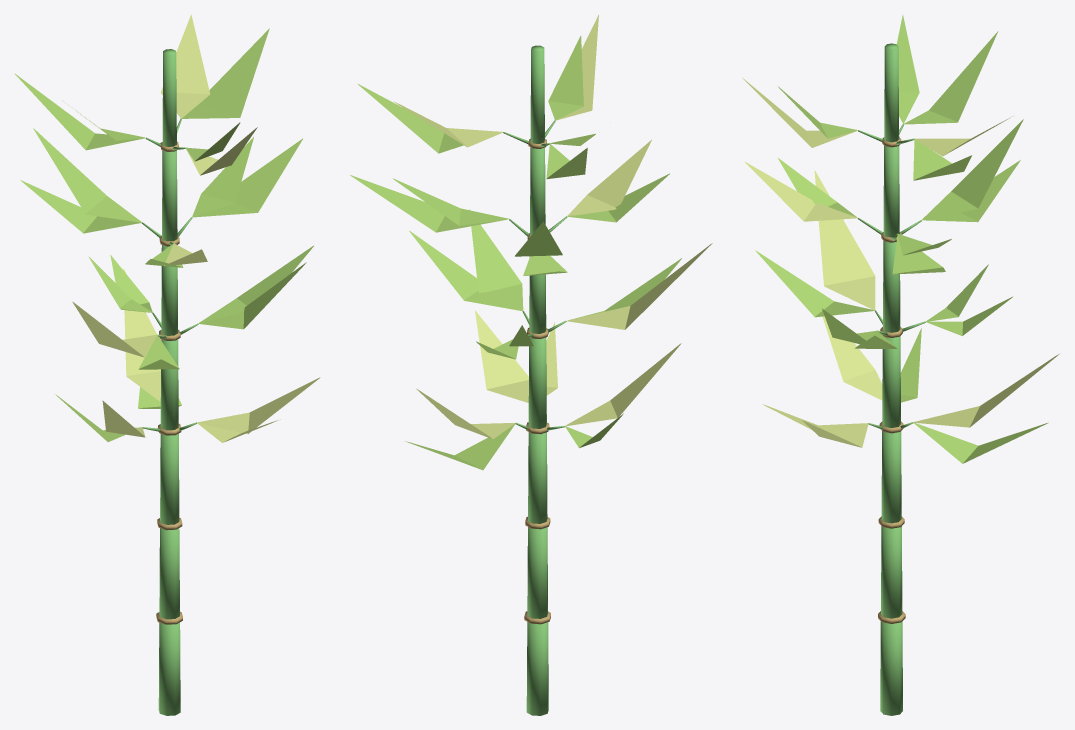
The model's file is bamboo_culm_mid_b.glb.
3 views of the same model, side by side, from view 1: azimuth 30°, elevation 25°; view 2: azimuth 150°, elevation 25°; view 3: azimuth 270°, elevation 25° (orthographic).
Parts seen in each view (by area): view 1: bamboo_culm_mid_b; view 2: bamboo_culm_mid_b; view 3: bamboo_culm_mid_b.
Boxes of the visible parts, x1=… form: bamboo_culm_mid_b: x1=14, y1=14, x2=320, y2=715; bamboo_culm_mid_b: x1=350, y1=14, x2=712, y2=715; bamboo_culm_mid_b: x1=742, y1=14, x2=1059, y2=715.
Size of the model in its own units: 2.26 by 4.8 by 2.09.
